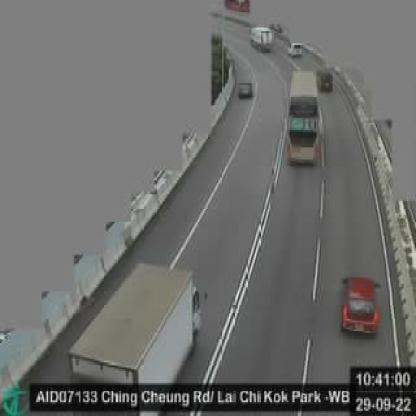Bus: (282, 66, 322, 168)
Car: (340, 267, 382, 350), (313, 61, 337, 90), (232, 80, 258, 97), (286, 38, 306, 57)
Truck: (60, 260, 212, 414), (242, 24, 277, 54)
